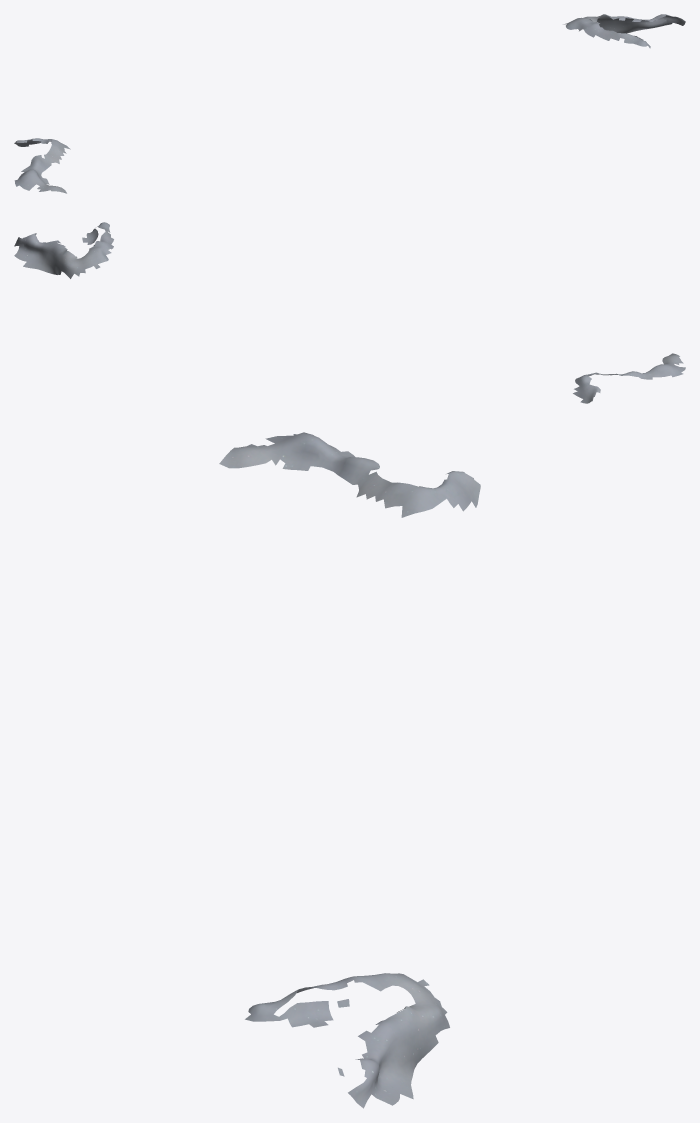
The model's file is pref_sm_beach_winter_sandsnow_lv3.fbx.
The picture shows the model from 3 angles, top to bottom: view 1: azimuth 30°, elevation 25°; view 2: azimuth 150°, elevation 25°; view 3: azimuth 270°, elevation 25°; orthographic projection. The views are drawn at different scales.
Visible parts, largest first — view 1: pref_sm_beach_winter_sandsnow_lv3; view 2: pref_sm_beach_winter_sandsnow_lv3; view 3: pref_sm_beach_winter_sandsnow_lv3.
Part boxes in pixels (bbox=[...]): pref_sm_beach_winter_sandsnow_lv3: bbox=[14, 14, 685, 193]; pref_sm_beach_winter_sandsnow_lv3: bbox=[14, 222, 685, 403]; pref_sm_beach_winter_sandsnow_lv3: bbox=[219, 432, 480, 1108].
Bounding box in the file's own units: 47.2 × 2.24 × 8.2.
